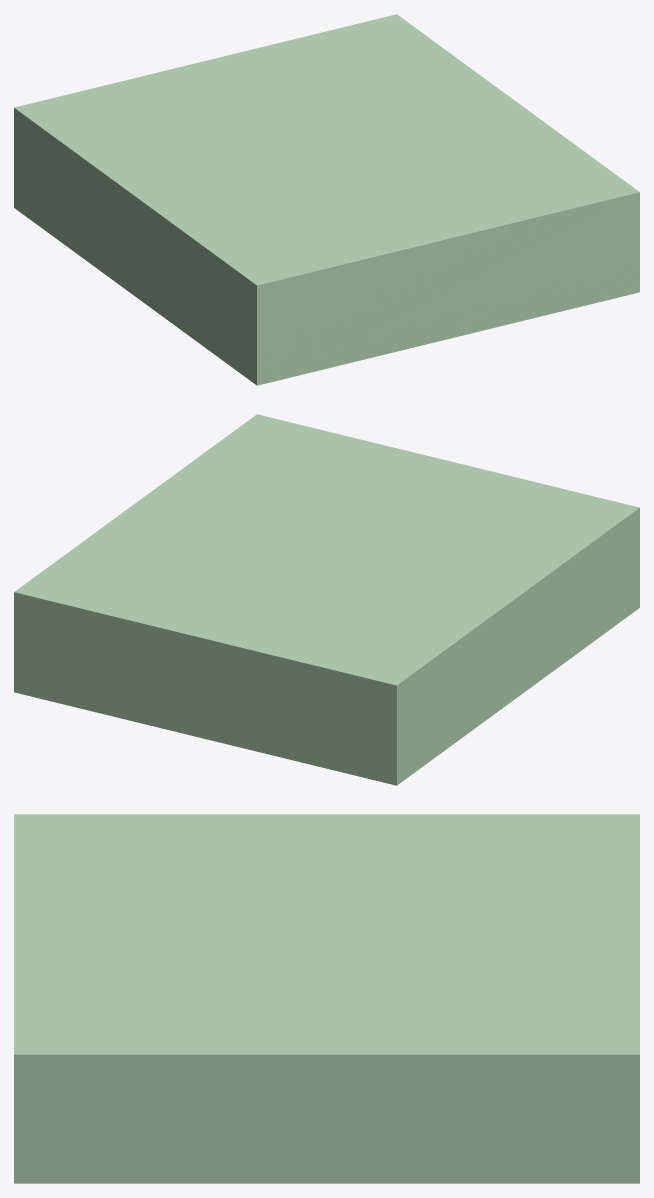
The model's file is 06-bed-king.glb.
The picture shows the model from 3 angles, top to bottom: view 1: azimuth 30°, elevation 25°; view 2: azimuth 150°, elevation 25°; view 3: azimuth 270°, elevation 25°; orthographic projection. The views are drawn at different scales.
Visible parts, largest first — view 1: PlaceholderBox; view 2: PlaceholderBox; view 3: PlaceholderBox.
Part boxes in pixels (<box>): PlaceholderBox: <box>14,14,639,385</box>; PlaceholderBox: <box>14,414,639,785</box>; PlaceholderBox: <box>14,814,639,1183</box>.
Bounding box in the file's own units: 2 × 0.5 × 2.2.
